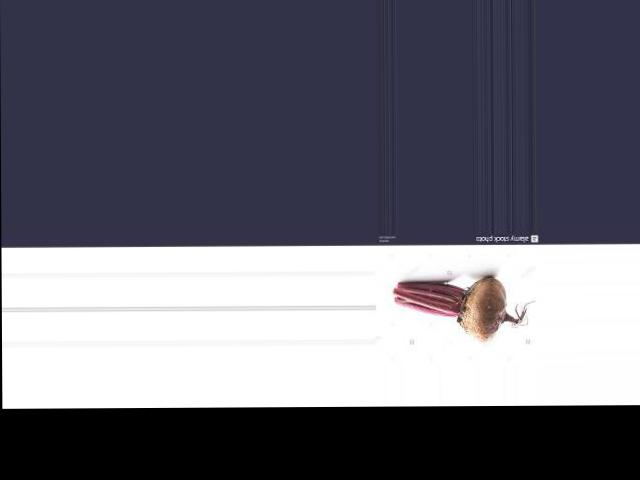beet: (392, 276, 535, 342)
